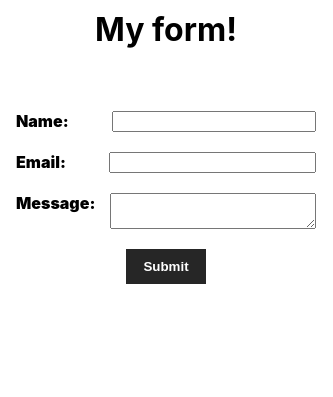
Test: Submission Form Tests › Loader is visible when the form submitted
Step 1. Type "Test User" into the field with id "name" → (214, 122), box [112,111,316,132]
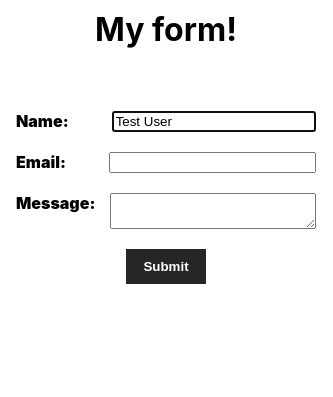
Step 2. Type "hello@cypress.io" into the field with id "email" → (213, 163), box [109,152,316,173]
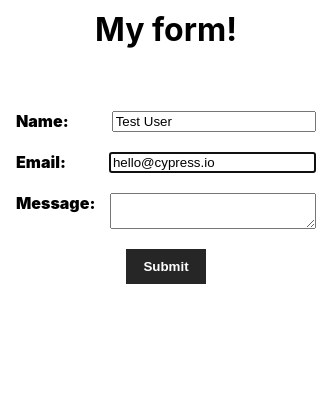
Step 3. Type "Awesome message" into the text box with id "message" → (213, 211), box [110,193,316,229]
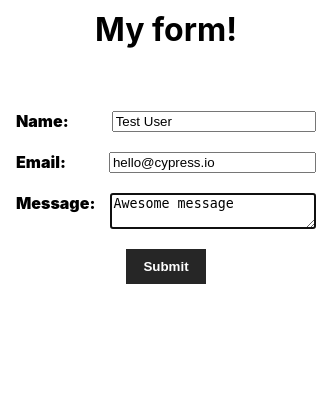
Step 4. Click the button with id "submitButton" → (166, 267), box [126,249,206,284]
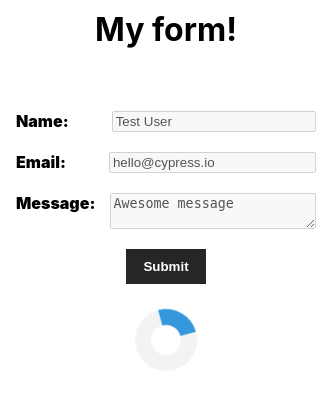
Check: the element with id "loader" is shown, box [126,300,206,380]
